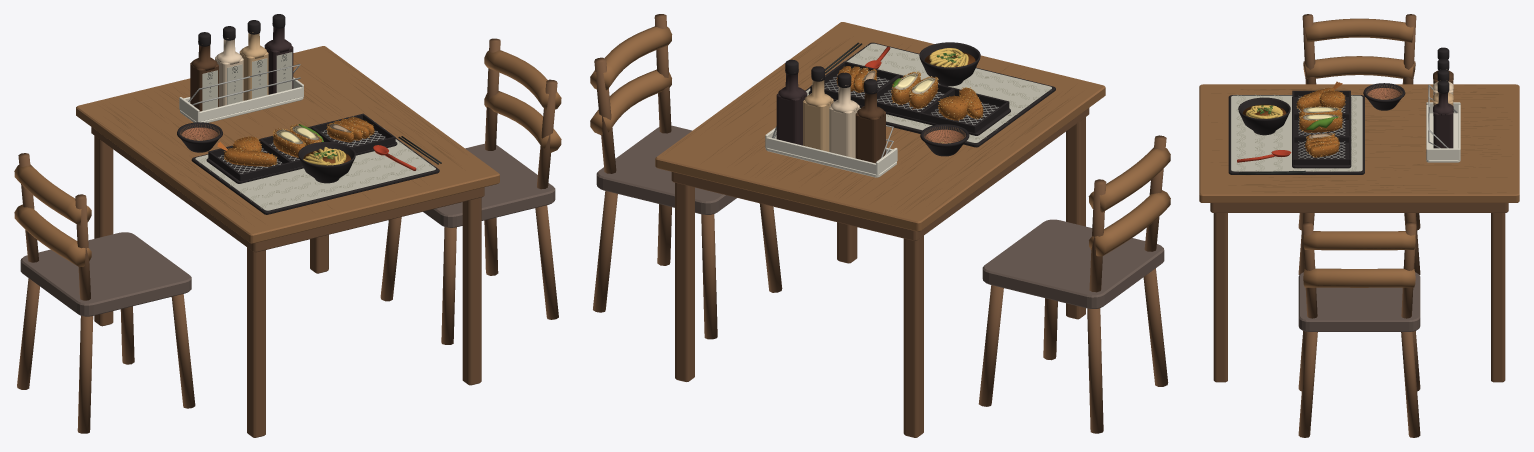
Rendered from gallery.glb.
3 renders of one model, left to right at view 1: azimuth 30°, elevation 25°; view 2: azimuth 150°, elevation 25°; view 3: azimuth 270°, elevation 25°, orthographic. The views are drawn at different scales.
Visible parts, largest first — view 1: HibarinGangnamSampler, HibarinGangnamGlaze; view 2: HibarinGangnamSampler, HibarinGangnamGlaze; view 3: HibarinGangnamSampler, HibarinGangnamGlaze.
Part boxes in pixels (x1,y1,x2,y2): HibarinGangnamSampler: [14, 38, 561, 437]; HibarinGangnamGlaze: [177, 14, 439, 214]; HibarinGangnamSampler: [590, 14, 1170, 437]; HibarinGangnamGlaze: [765, 42, 1055, 177]; HibarinGangnamSampler: [1199, 14, 1519, 437]; HibarinGangnamGlaze: [1228, 47, 1460, 174].
Bounding box in the file's own units: 1.89 × 1.07 × 1.16.
